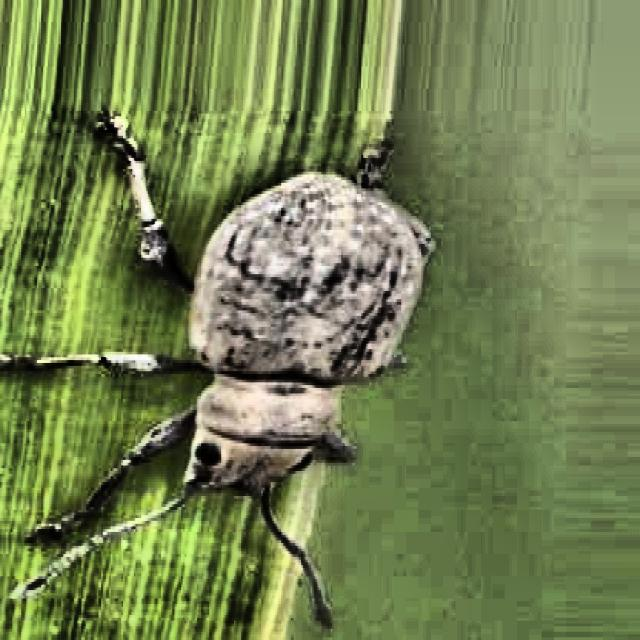Stink bug: (95, 60, 430, 588)
